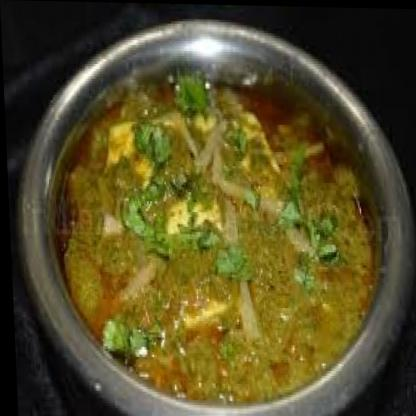palak_paneer: (48, 66, 382, 410)
